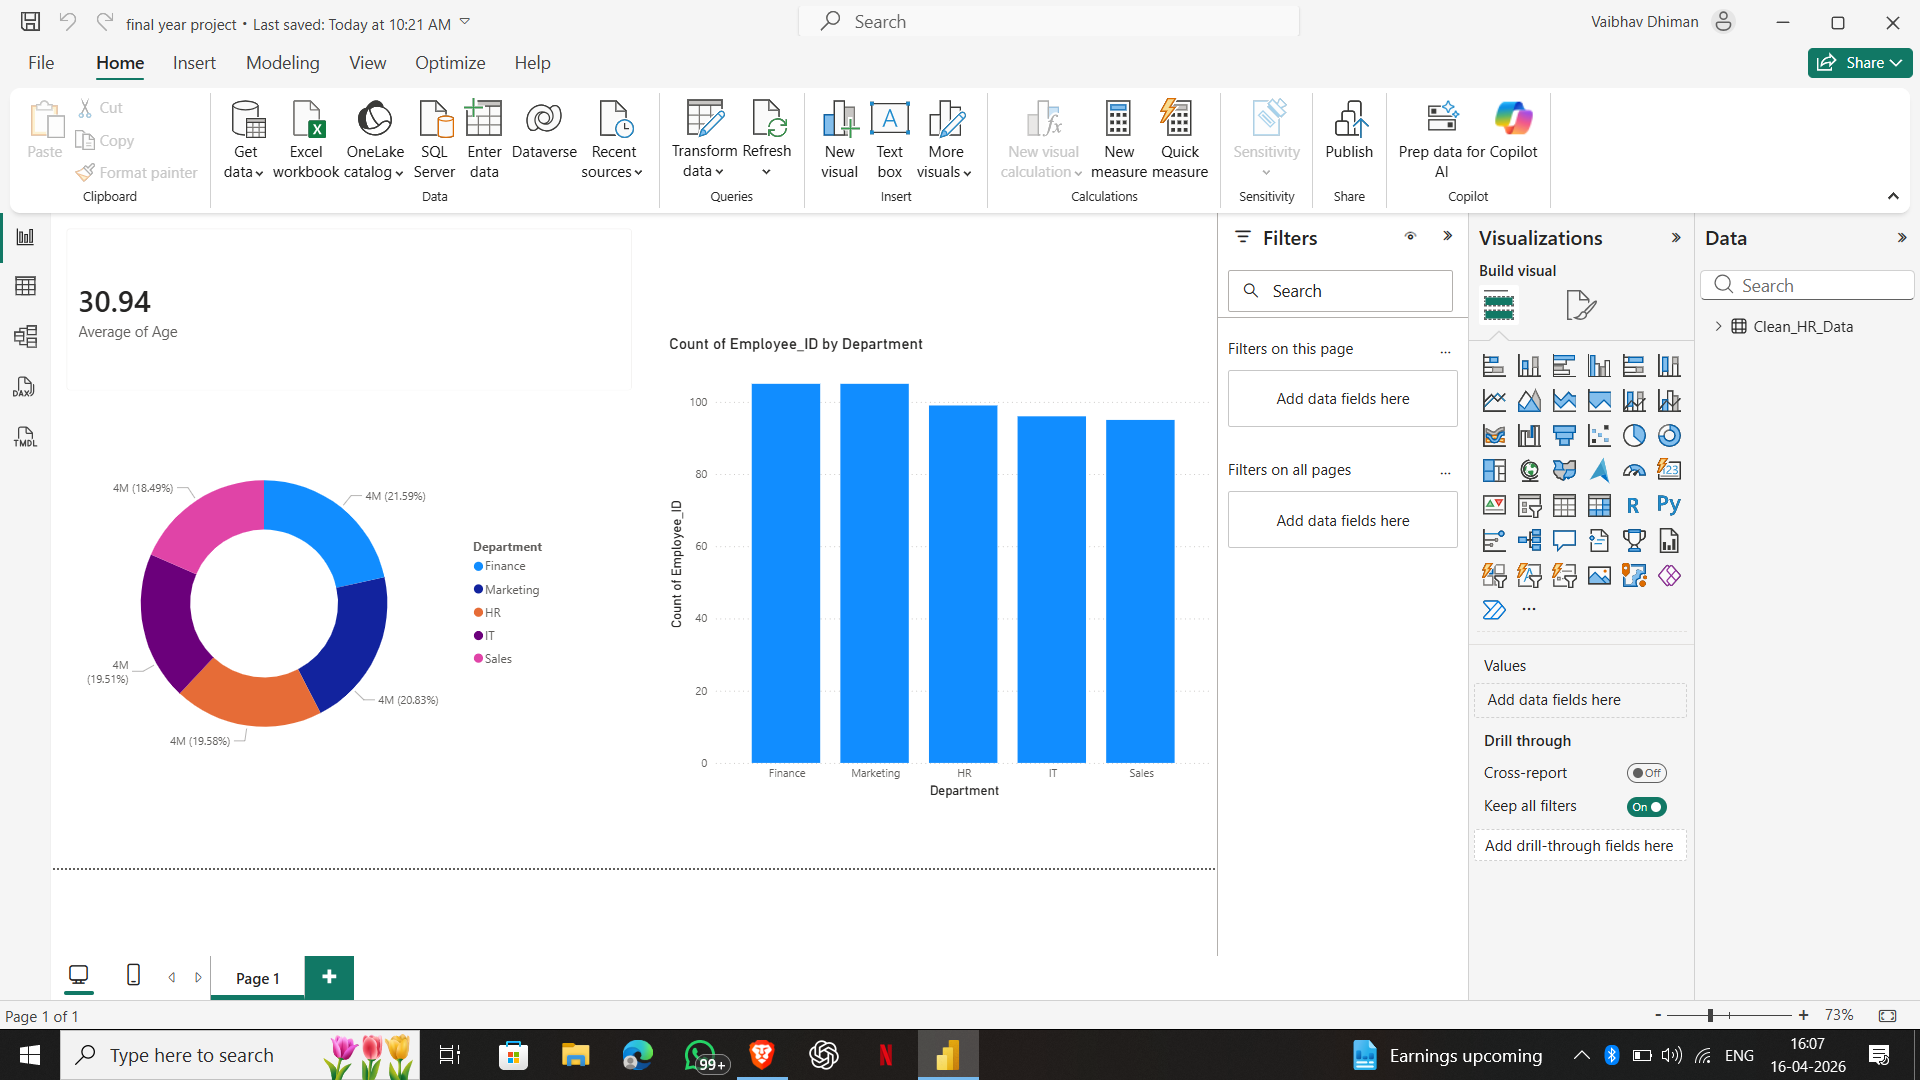

The dashboard page shown, as its layout file describes it:
{"tool":"powerbi","page":{"name":"Page 1","canvas":[1280,720],"ordinal":0},"visuals":[{"type":"donutChart","fields":{"Category":["Clean_HR_Data.Department"],"Y":["Sum(Clean_HR_Data.Salary)"]},"box":[0,133.1,561.2,570.8],"z":0},{"type":"clusteredColumnChart","fields":{"Category":["Clean_HR_Data.Department"],"Y":["CountNonNull(Clean_HR_Data.Employee_ID)"]},"box":[673.8,133.1,606.5,514.6],"z":1},{"type":"cardVisual","fields":{"Data":["Avg(Clean_HR_Data.Age)"]},"box":[0,0,655.9,212.7],"z":2}]}

Visuals, with their boxes on the page's 1280x720 design canvas (x1, y1, x2, y2). These are canvas units, not pixel positions in the 1920x1080 screenshot, which may show the page scaled, cropped or inside an application window:
donutChart - Clean_HR_Data.Department x Sum(Clean_HR_Data.Salary): l=0, t=133, r=561, b=704
clusteredColumnChart - Clean_HR_Data.Department x CountNonNull(Clean_HR_Data.Employee_ID): l=674, t=133, r=1280, b=648
cardVisual - Avg(Clean_HR_Data.Age): l=0, t=0, r=656, b=213
